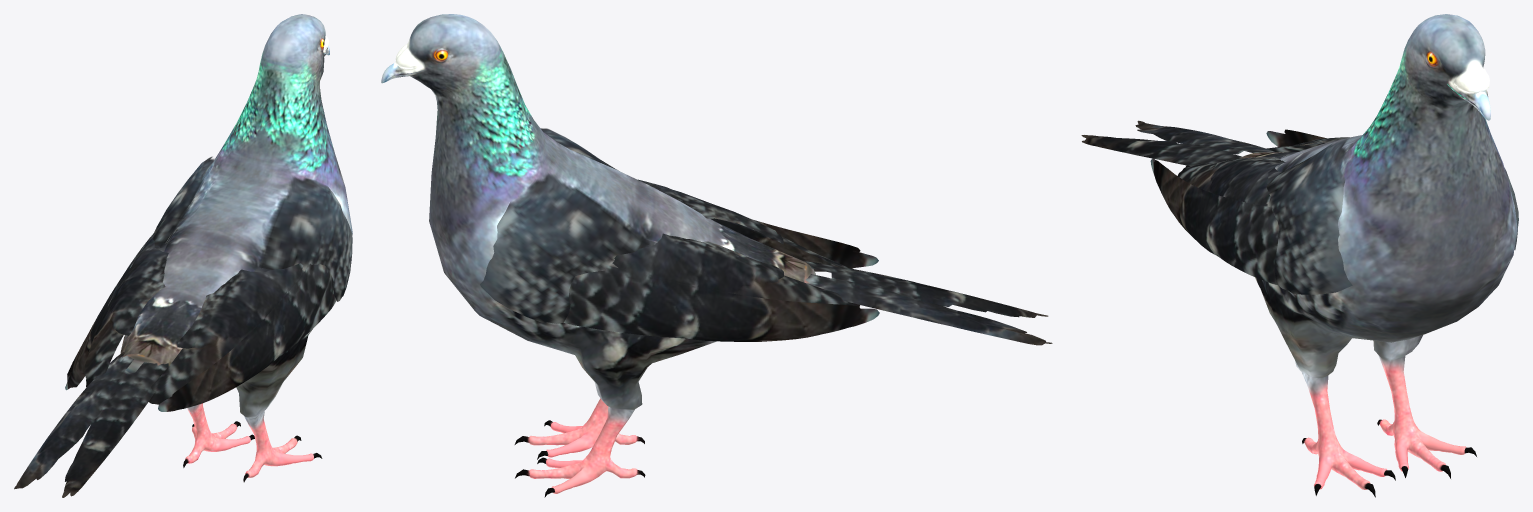
File: pigeon.glb
3 views of the same model, side by side, from view 1: azimuth 30°, elevation 25°; view 2: azimuth 150°, elevation 25°; view 3: azimuth 270°, elevation 25° (orthographic). The views are drawn at different scales.
Visible parts, largest first — view 1: Body_2; view 2: Body_2; view 3: Body_2.
Part boxes in pixels (x1,y1,x2,y2): Body_2: [14, 14, 352, 497]; Body_2: [381, 14, 1052, 497]; Body_2: [1081, 14, 1518, 497].
Size of the model in its own units: 0.3532 by 0.293 by 0.2346.
1 material, 1 textured.
